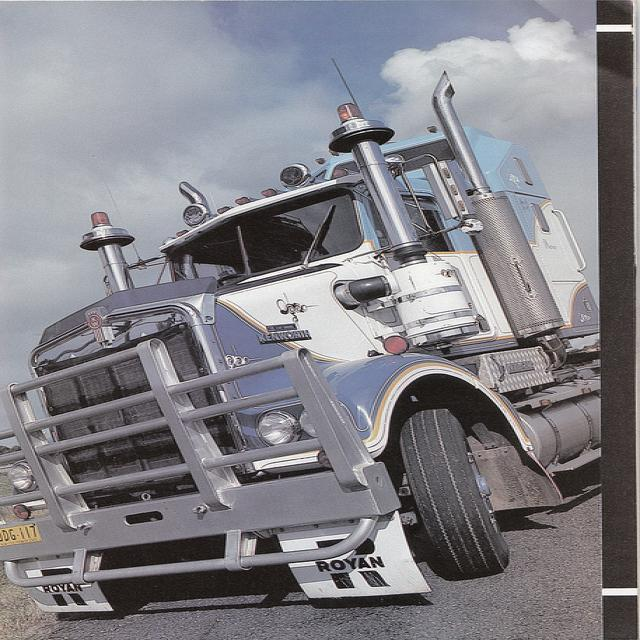Vehicle: (2, 81, 608, 616)
